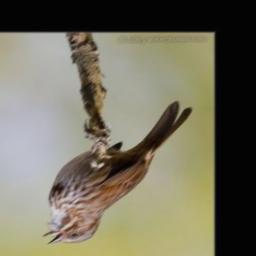Sparrow: (39, 100, 193, 249)
